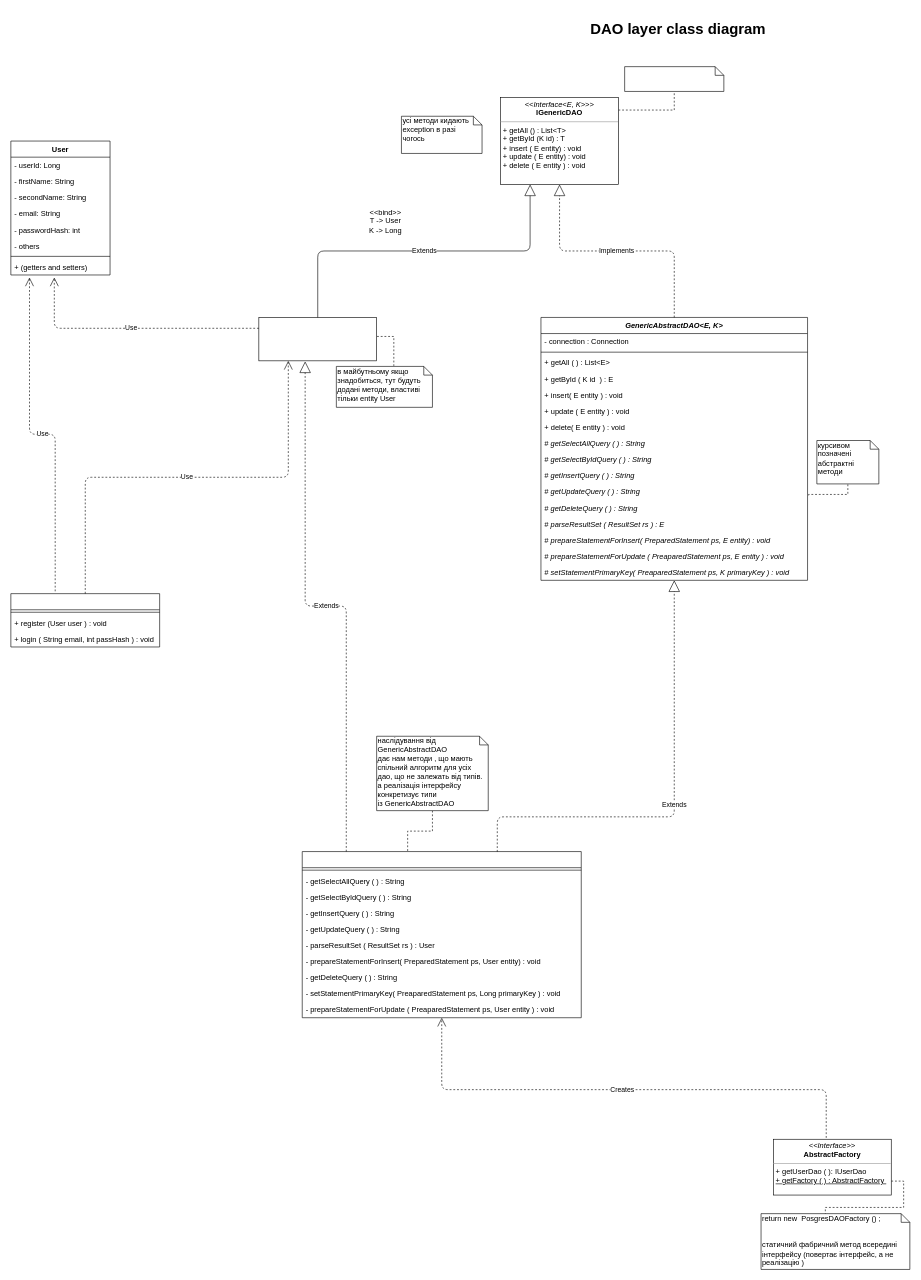
This 921x1280 diagram has some shape labels left out. The shapes that lost their labels are listed below. From the top down, each one's box as (x1, y1, x2, y2) in pixels, then its label:
(624, 66, 724, 91): E - entity type K - entity primary key type
(258, 317, 377, 361): <<Interface>> IUserDao
(10, 593, 160, 647): RegistractionService
(302, 851, 581, 1018): PosgresUserDAO
